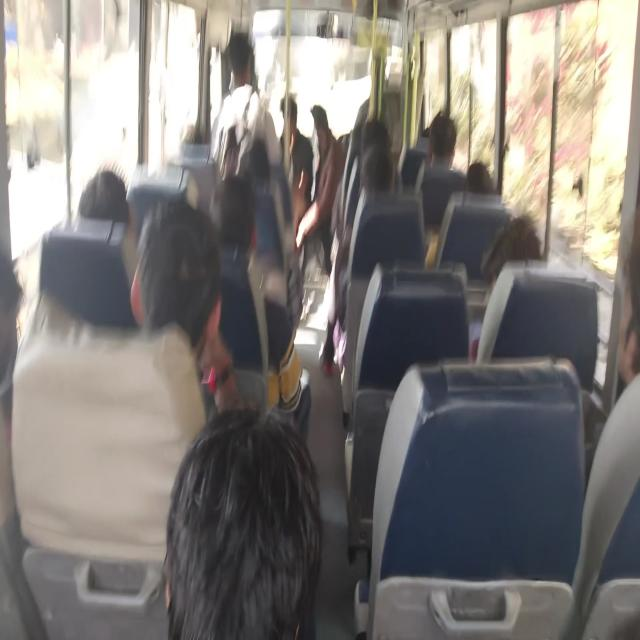person: (3, 5, 637, 637), (11, 198, 236, 561), (162, 405, 322, 638), (569, 204, 639, 636), (212, 174, 311, 433), (130, 198, 240, 420), (323, 142, 394, 374), (470, 215, 542, 362), (210, 32, 280, 180), (294, 104, 344, 275), (278, 93, 314, 235), (414, 112, 466, 193), (76, 168, 130, 226), (426, 112, 457, 170), (465, 160, 494, 193)
